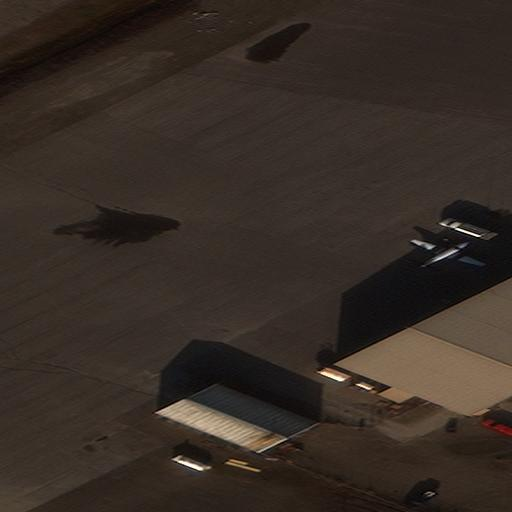Small Civil Transport: (414, 238, 485, 267)
